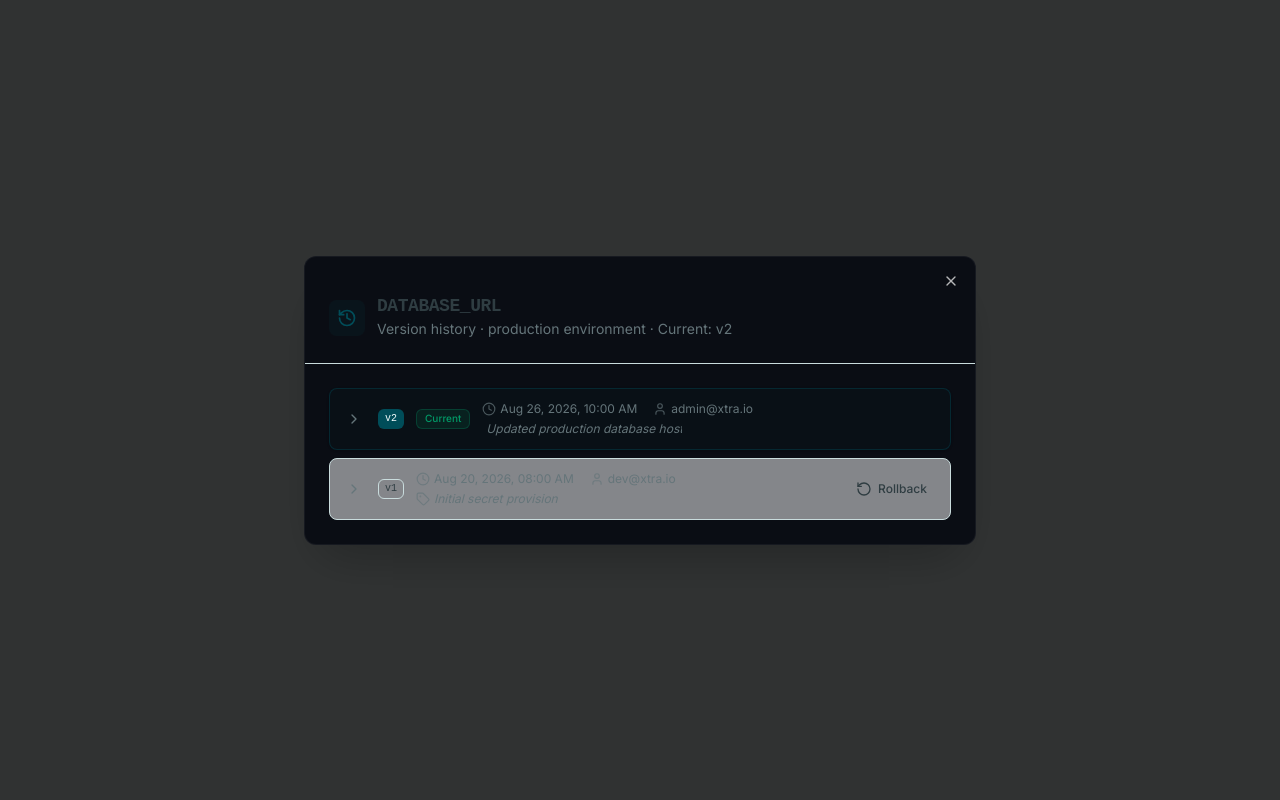
Test case: Frontend SecretHistoryModal Component Integration Tests › 2. Allows expanding version row and toggles secret value revelation
Expected: the text "v2" is shown, [378,408,404,428]
Click the button without text in the row of "Updated production database host". click: (354, 418)
box: [342,406,366,430]
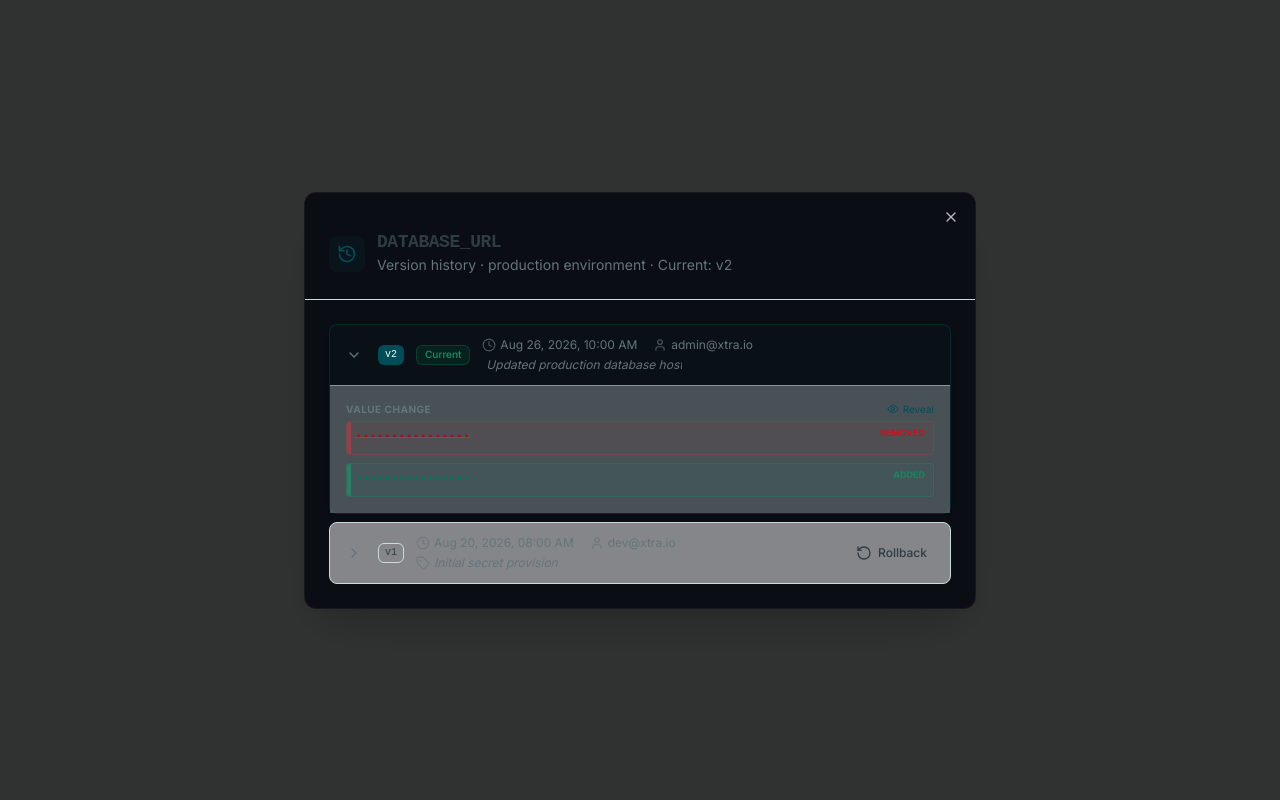
Click Reveal button inside expanded row
Click the button "Reveal". click: (910, 409)
box: [887,402,934,416]
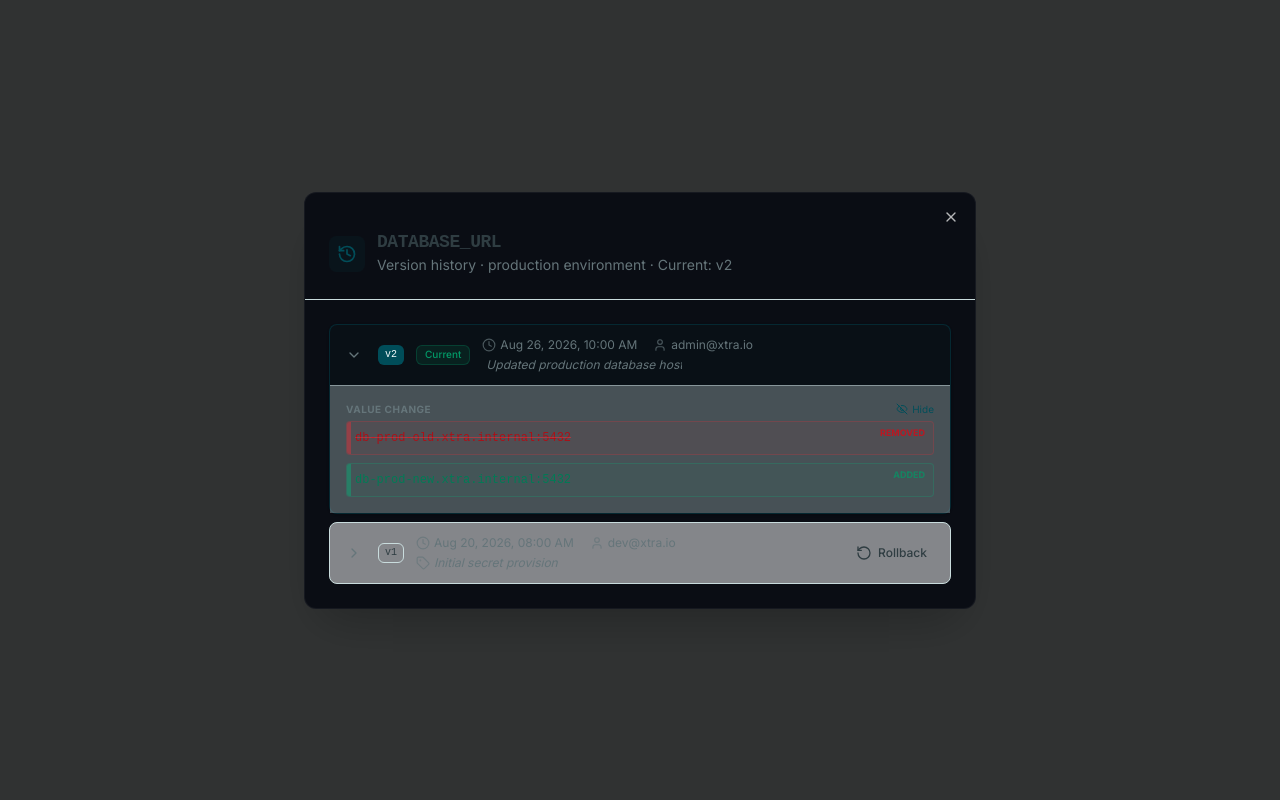
Expected: the text "db-prod-new.xtra.internal:5432" is shown, [355,472,571,486]
Expected: the button "Hide" is shown, [896,402,934,416]
